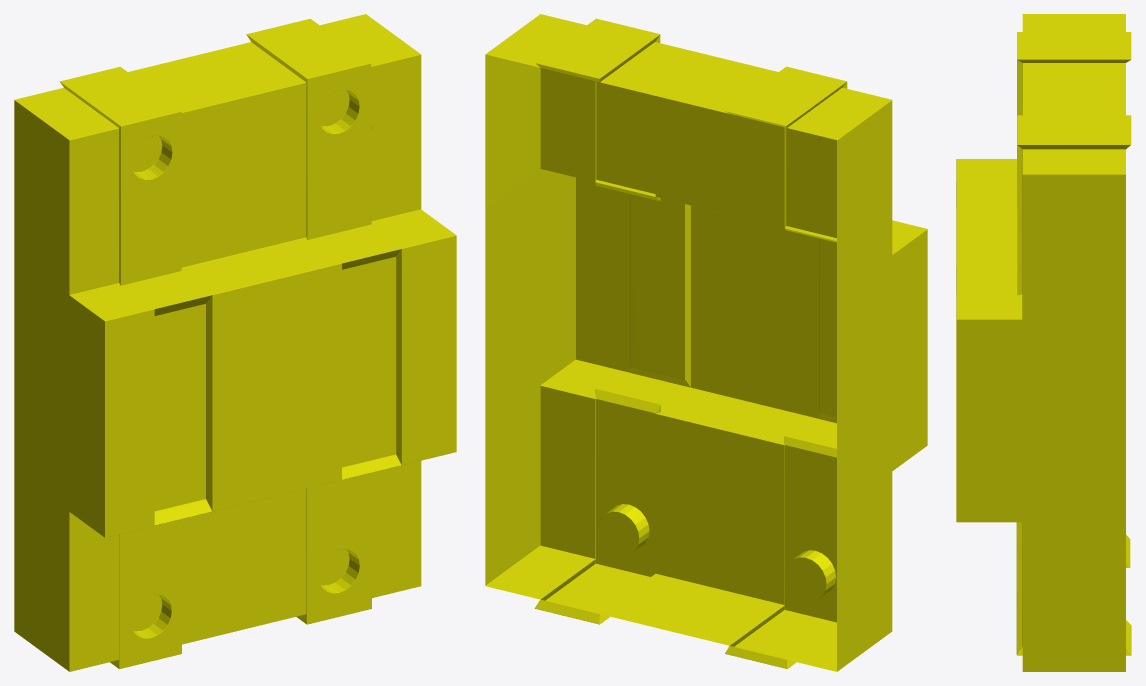
File: CircuitAnim 1.fbx
3 views of the same model, side by side, from view 1: azimuth 30°, elevation 25°; view 2: azimuth 150°, elevation 25°; view 3: azimuth 270°, elevation 25° (orthographic). The views are drawn at different scales.
Parts seen in each view (by area): view 1: CircuitBreaker; view 2: CircuitBreaker; view 3: CircuitBreaker.
Part boxes in pixels (<box>): CircuitBreaker: <box>14,14,456,671</box>; CircuitBreaker: <box>485,14,927,671</box>; CircuitBreaker: <box>956,14,1131,671</box>.
Size of the model in its own units: 0.4146 by 0.6141 by 0.1912.
